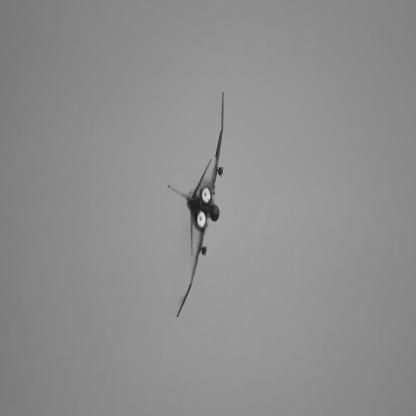F4: (168, 93, 225, 319)
